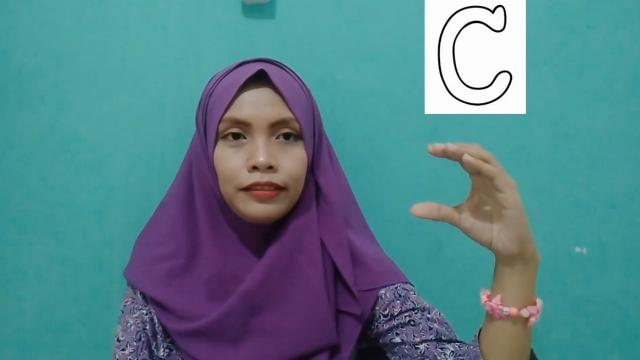C: (410, 141, 540, 263)
